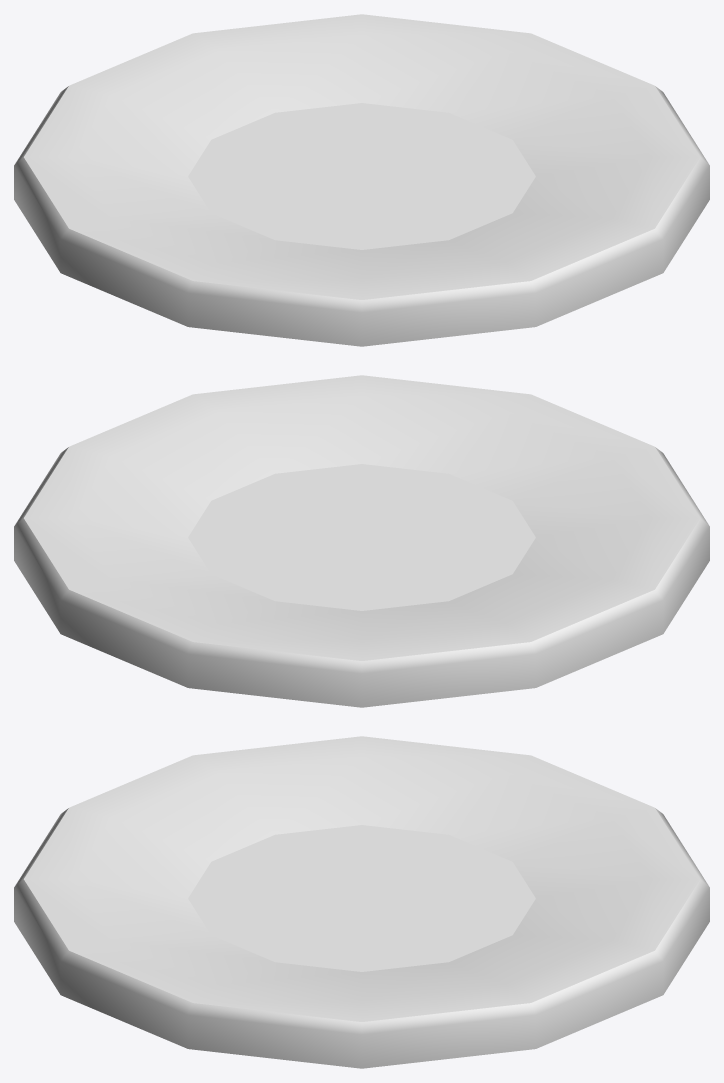
The model's file is Bord.fbx.
3 views of the same model, one above another, from view 1: azimuth 30°, elevation 25°; view 2: azimuth 150°, elevation 25°; view 3: azimuth 270°, elevation 25° (orthographic).
Visible parts, largest first — view 1: Bord; view 2: Bord; view 3: Bord.
Boxes of the visible parts, x1=… form: Bord: x1=14, y1=14, x2=709, y2=346; Bord: x1=14, y1=375, x2=709, y2=707; Bord: x1=14, y1=736, x2=709, y2=1068.
Size of the model in its own units: 17.32 by 1.45 by 17.32.
Materials: 1 (1 with a texture image).
